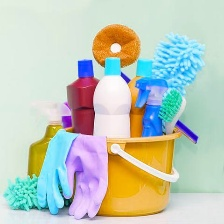cleaning_solution: (106, 56, 162, 198), (64, 56, 109, 200), (90, 55, 132, 206), (24, 97, 77, 205), (132, 73, 172, 198)
